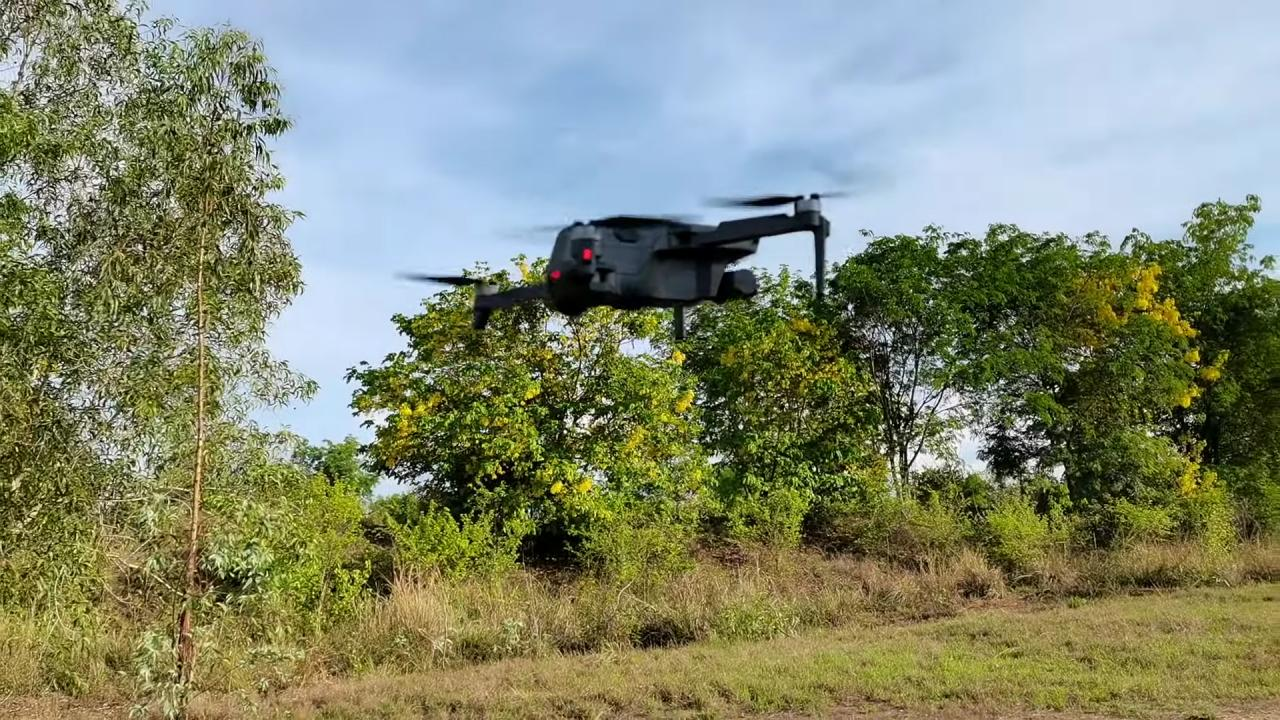Drone: (379, 180, 881, 347)
